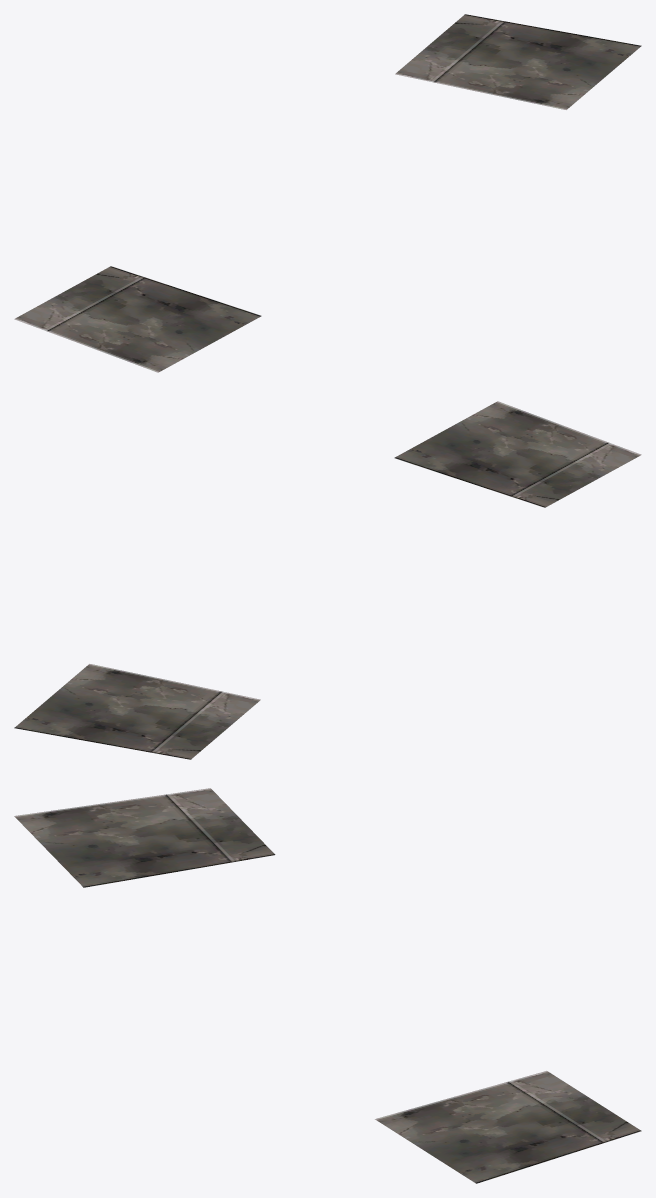
The model's file is CH09_SMAUG_PLAYSURFACE_LAIR139.fbx.
3 views of the same model, one above another, from view 1: azimuth 30°, elevation 25°; view 2: azimuth 210°, elevation 25°; view 3: azimuth 270°, elevation 25° (orthographic). The views are drawn at different scales.
Parts seen in each view (by area): view 1: CH09_SMAUG_PLAYSURFACE_LAIR139; view 2: CH09_SMAUG_PLAYSURFACE_LAIR139; view 3: CH09_SMAUG_PLAYSURFACE_LAIR139.
Part boxes in pixels (box(x1,y1,x2,y2)): CH09_SMAUG_PLAYSURFACE_LAIR139: box(14, 14, 641, 372); CH09_SMAUG_PLAYSURFACE_LAIR139: box(14, 401, 641, 759); CH09_SMAUG_PLAYSURFACE_LAIR139: box(14, 788, 641, 1183).
Size of the model in its own units: 49862 by 0.0116 by 33434.
Materials: 1 (1 with a texture image).
